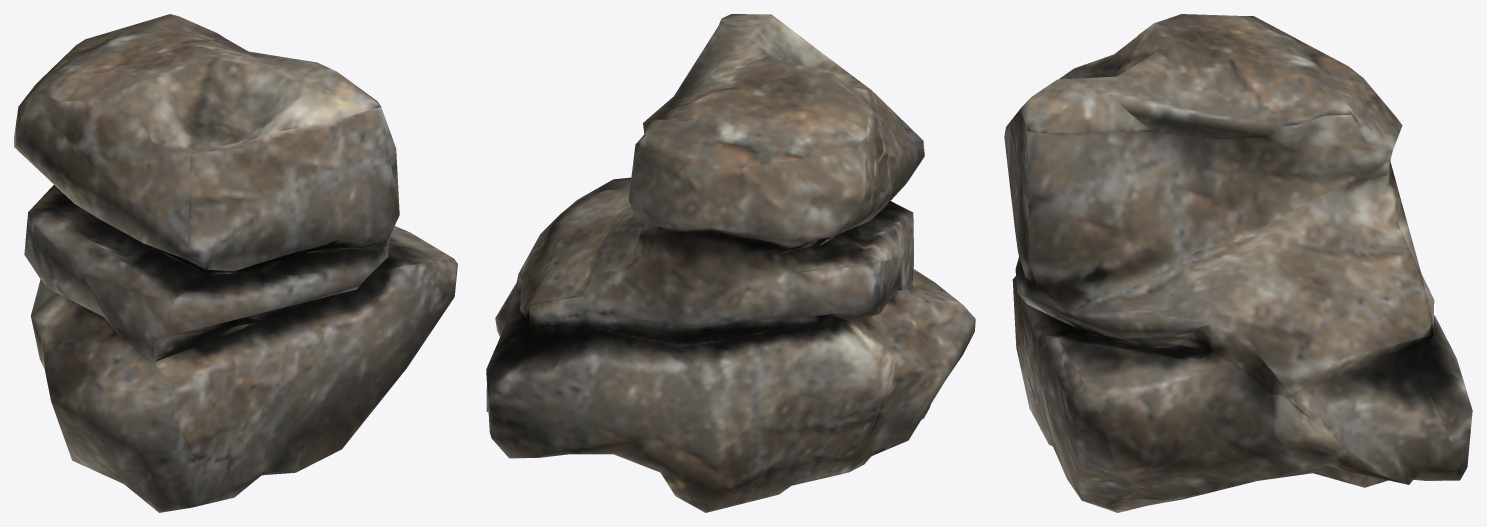
The model's file is Roca.FBX.
3 renders of one model, left to right at view 1: azimuth 30°, elevation 25°; view 2: azimuth 150°, elevation 25°; view 3: azimuth 270°, elevation 25°, orthographic. The views are drawn at different scales.
Visible parts, largest first — view 1: realrock1 lod_2; view 2: realrock1 lod_2; view 3: realrock1 lod_2.
Part boxes in pixels (x1,y1,x2,y2): realrock1 lod_2: [14, 14, 457, 512]; realrock1 lod_2: [486, 14, 975, 512]; realrock1 lod_2: [1004, 14, 1472, 512].
Size of the model in its own units: 214 by 215 by 216.
1 material, 1 textured.
